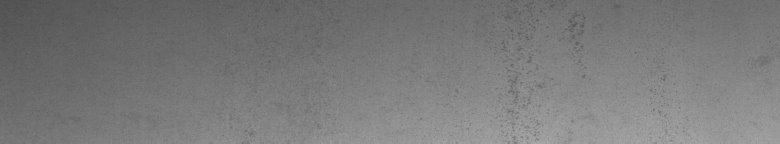ib: (497, 8, 584, 126)
